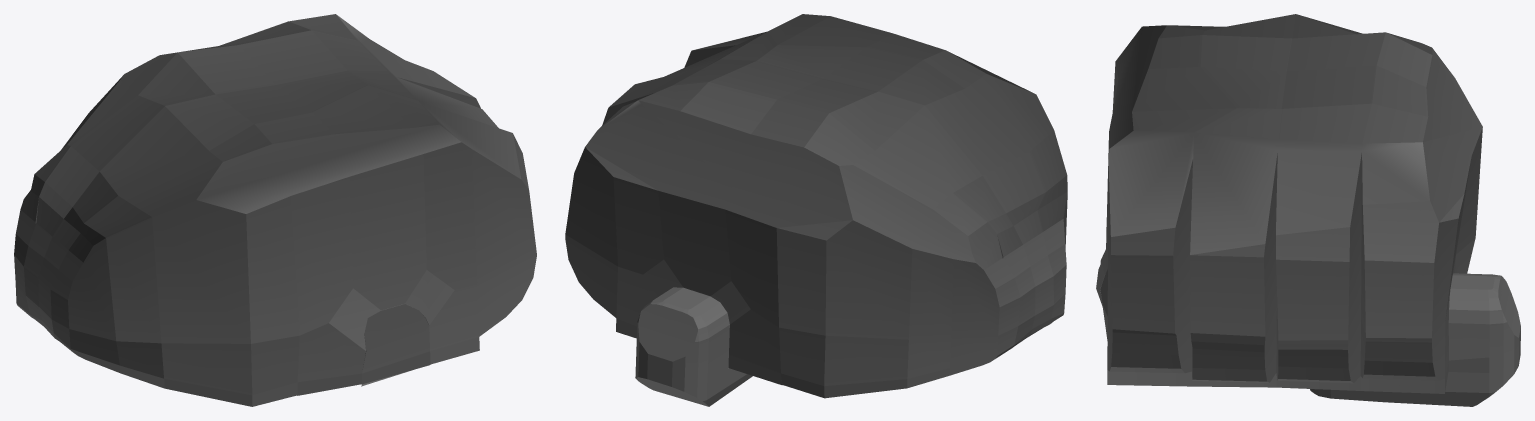
File: puño roca.fbx
3 renders of one model, left to right at view 1: azimuth 30°, elevation 25°; view 2: azimuth 150°, elevation 25°; view 3: azimuth 270°, elevation 25°, orthographic. The views are drawn at different scales.
Parts seen in each view (by area): view 1: Sphere; view 2: Sphere; view 3: Sphere.
Boxes of the visible parts, x1,y1,x2,y2 form: Sphere: (14, 14, 536, 406); Sphere: (565, 14, 1067, 406); Sphere: (1096, 14, 1520, 406).
Size of the model in its own units: 176 by 110 by 139.
1 material, 1 textured.
